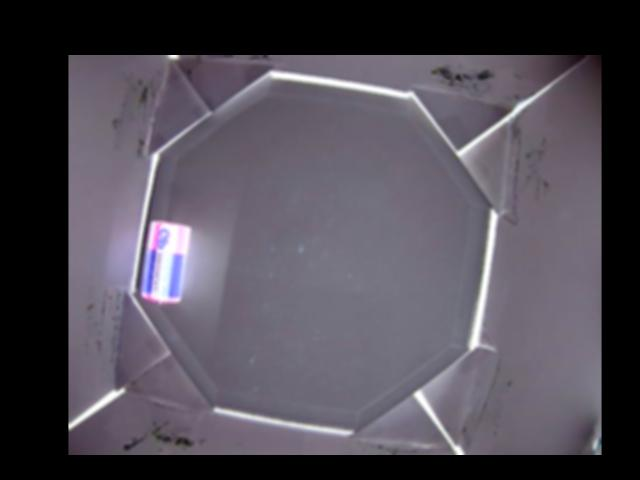Battery: (139, 220, 189, 306)
